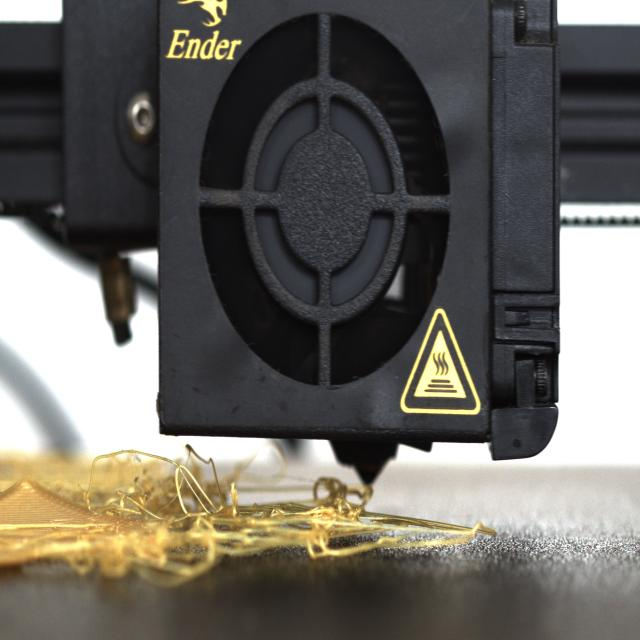Without deffect: (184, 16, 467, 430)
